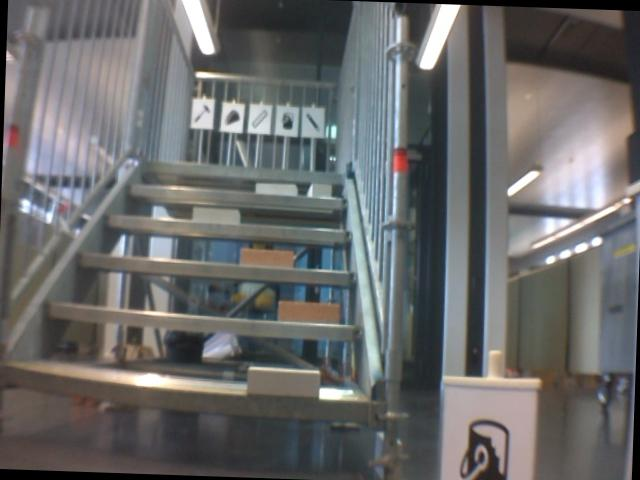brick: (247, 367, 319, 397), (278, 301, 337, 324), (239, 249, 293, 268), (191, 208, 238, 224), (255, 183, 296, 195), (308, 184, 330, 197)
bucket: (276, 110, 294, 132)
edge: (2, 365, 368, 420), (43, 303, 362, 339), (75, 252, 356, 284), (102, 213, 351, 241), (125, 185, 346, 207), (141, 160, 342, 183)
hammer: (191, 100, 210, 125)
pencil: (302, 111, 321, 134)
ruler: (249, 107, 268, 130)
taco: (222, 105, 241, 128)
